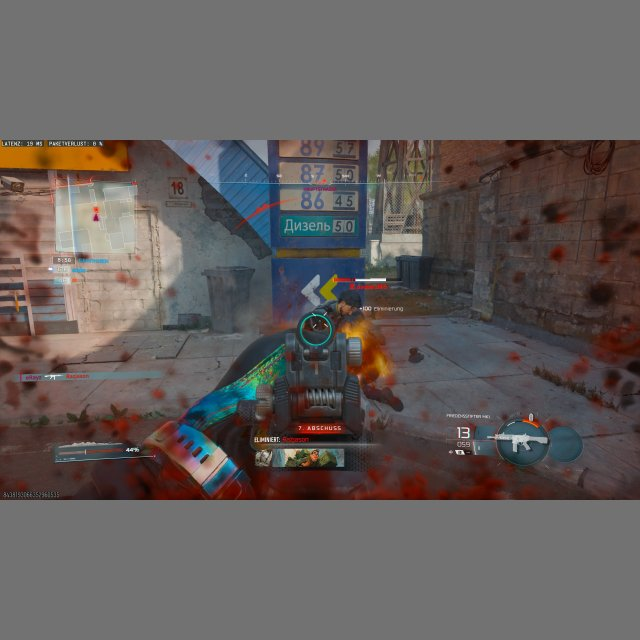head: (336, 291, 363, 317)
